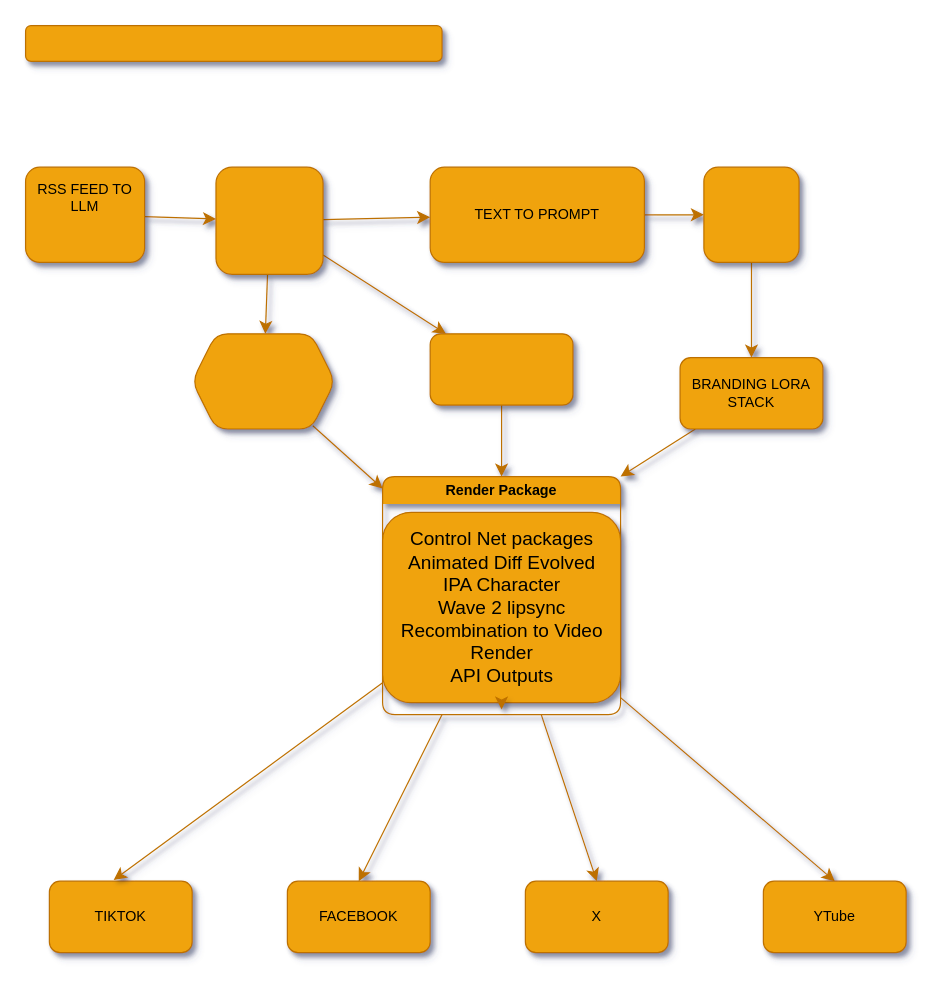
This 941x989 diagram has some shape labels left out. Here are the shapes that lost their labels. From the top down, the centre of each, then its label:
At (234,45): "24-7 News Network Process Flow for ComfyUI".
At (270,222): "LLM TO PARSE TEXT".
At (752,216): "SD 1.5 MODEL =/=Proteus V03".
At (264,382): "TEXT TO SPEECH".
At (502,371): "CAPTION GENERATOR".
